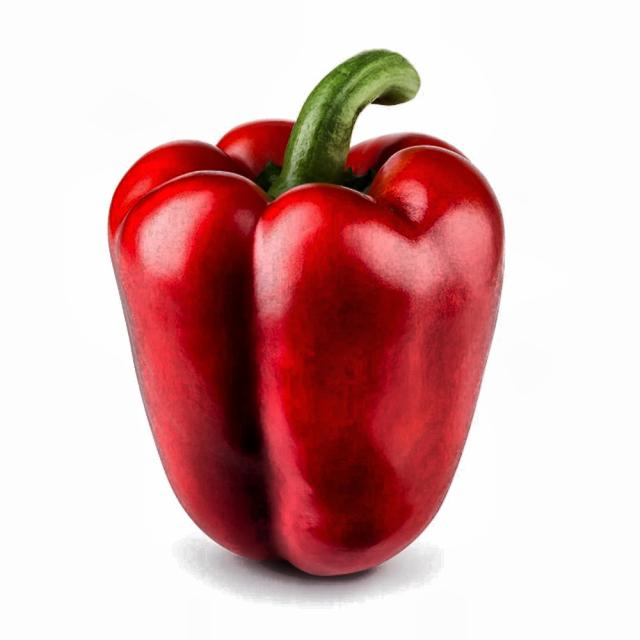capsicum: (93, 37, 535, 607)
